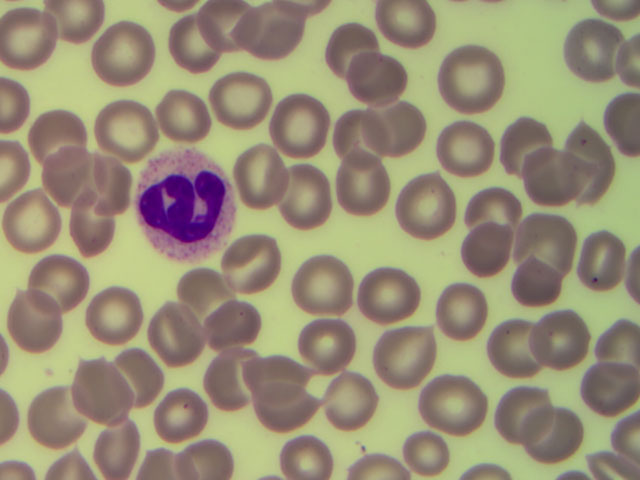RBC: (93, 99, 162, 162), (92, 20, 161, 83), (27, 384, 96, 447), (374, 326, 443, 389), (436, 47, 505, 110), (25, 255, 94, 318), (335, 150, 404, 213), (270, 91, 339, 154), (512, 213, 581, 276), (234, 1, 305, 60), (73, 353, 127, 423), (292, 256, 357, 314), (274, 162, 331, 228), (395, 177, 455, 239), (9, 285, 64, 352), (561, 126, 607, 206), (149, 298, 202, 367), (419, 371, 486, 425), (564, 20, 624, 79), (234, 146, 294, 205), (1, 5, 53, 73), (85, 285, 144, 343), (207, 345, 258, 412), (209, 70, 265, 130), (166, 11, 222, 70), (224, 233, 278, 292), (175, 268, 230, 324), (359, 269, 418, 321), (493, 316, 540, 379), (464, 188, 523, 238), (201, 1, 256, 54), (437, 125, 496, 174), (300, 318, 353, 371), (505, 257, 559, 309), (528, 146, 582, 198), (535, 312, 589, 364), (576, 235, 630, 287), (523, 407, 577, 459), (583, 360, 637, 412), (322, 373, 376, 425), (81, 159, 132, 214), (4, 191, 54, 247), (350, 54, 407, 103), (375, 1, 437, 46), (255, 383, 314, 430), (327, 23, 378, 76), (205, 299, 258, 350), (458, 224, 509, 277), (72, 191, 114, 255), (27, 110, 80, 160), (90, 421, 137, 477), (599, 94, 640, 158), (498, 385, 544, 442), (370, 103, 422, 153), (502, 118, 542, 180), (250, 354, 308, 396), (175, 437, 237, 476), (158, 389, 208, 437), (594, 319, 640, 371), (113, 351, 158, 404), (437, 284, 482, 337), (45, 151, 93, 198), (37, 1, 96, 39), (402, 431, 452, 470), (283, 441, 331, 479), (141, 446, 194, 480), (586, 448, 640, 480), (611, 33, 640, 92), (346, 454, 409, 480), (47, 446, 95, 480), (1, 142, 29, 198), (1, 76, 28, 128), (1, 384, 23, 444), (612, 412, 640, 458), (459, 457, 513, 480), (622, 245, 640, 306), (592, 1, 640, 20), (1, 455, 37, 480), (550, 459, 587, 480), (1, 336, 16, 378)
WBC: (142, 155, 229, 260)
